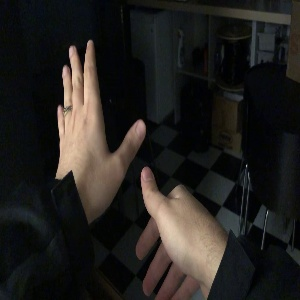hand: (56, 38, 142, 202), (136, 168, 227, 298)
